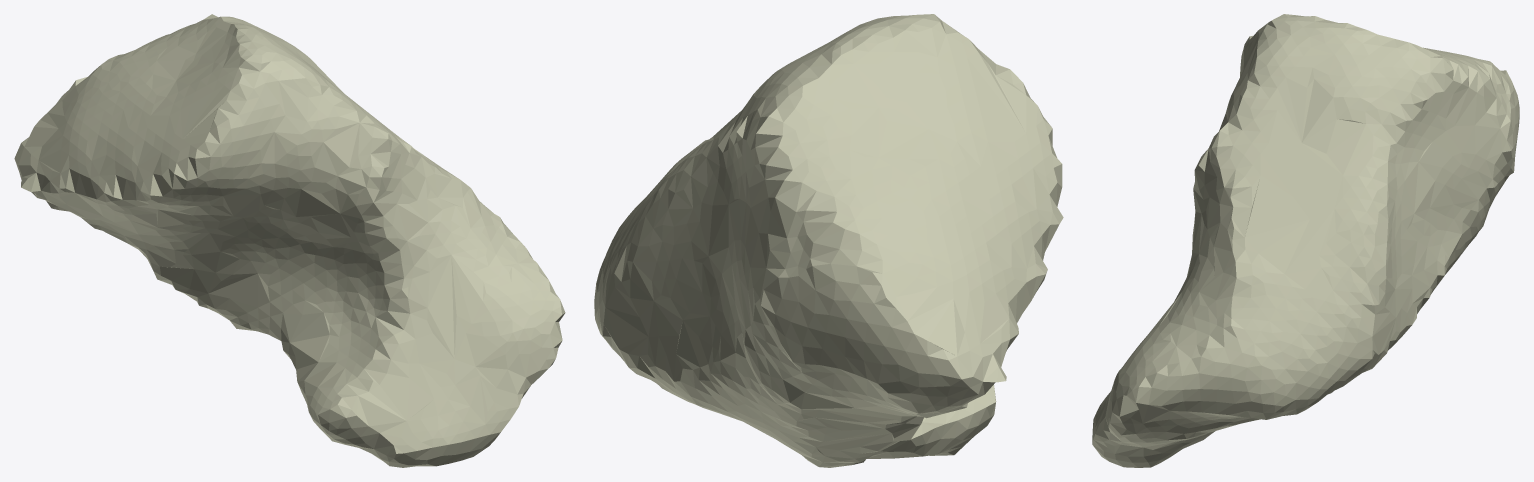
The model's file is Model_10274_LH__Inferior_pulvinar_(IPul).obj.
3 renders of one model, left to right at view 1: azimuth 30°, elevation 25°; view 2: azimuth 150°, elevation 25°; view 3: azimuth 270°, elevation 25°, orthographic. The views are drawn at different scales.
Bounding box in the file's own units: 2.78 × 2.57 × 2.61.
